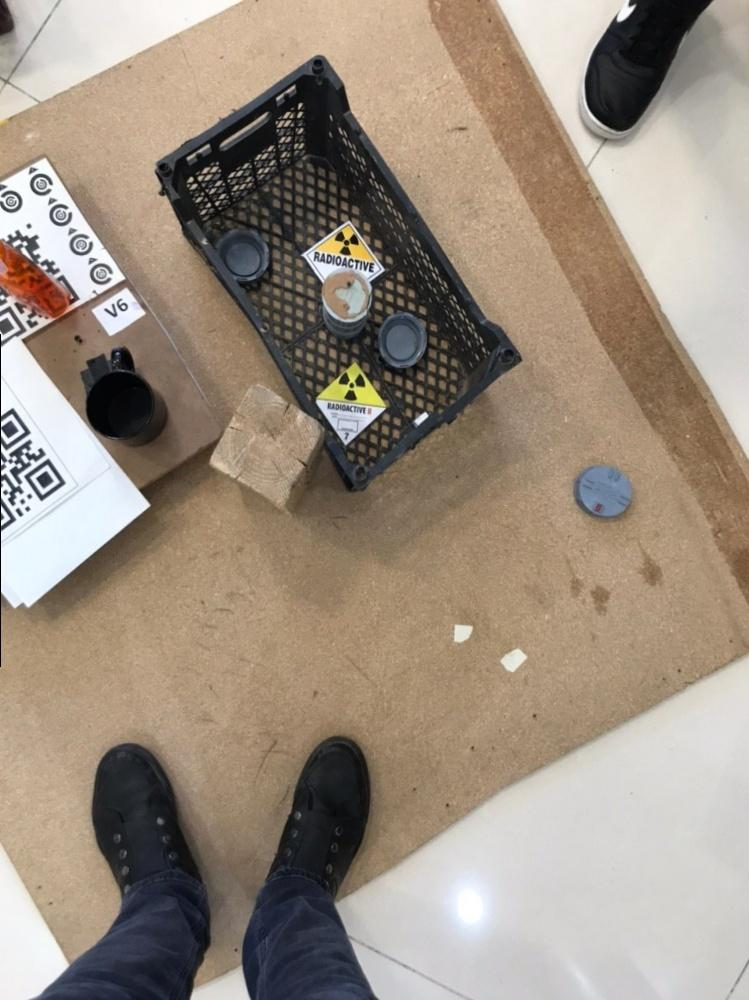radioactive: (301, 220, 384, 300), (313, 360, 388, 448)
